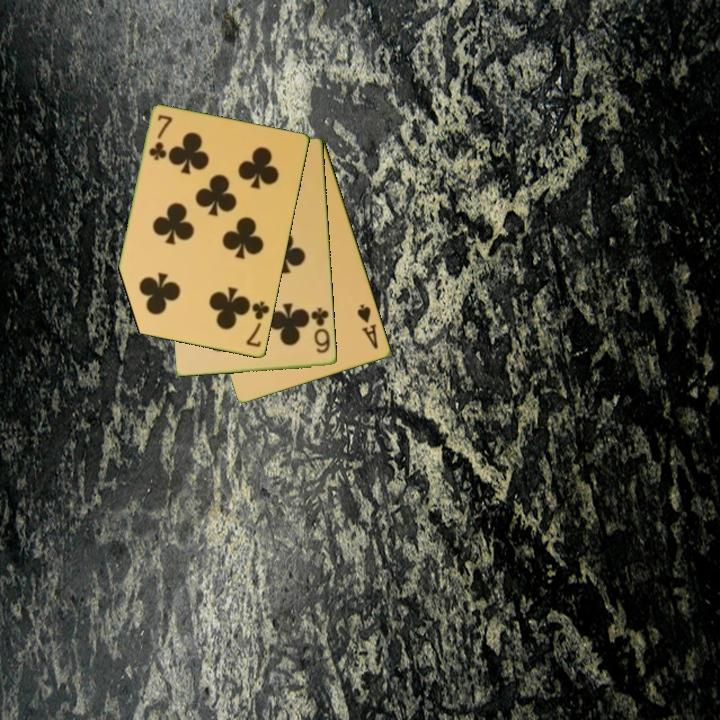6c: (308, 304, 333, 357)
7c: (243, 298, 273, 350), (146, 112, 176, 163)
As: (354, 300, 381, 352)
